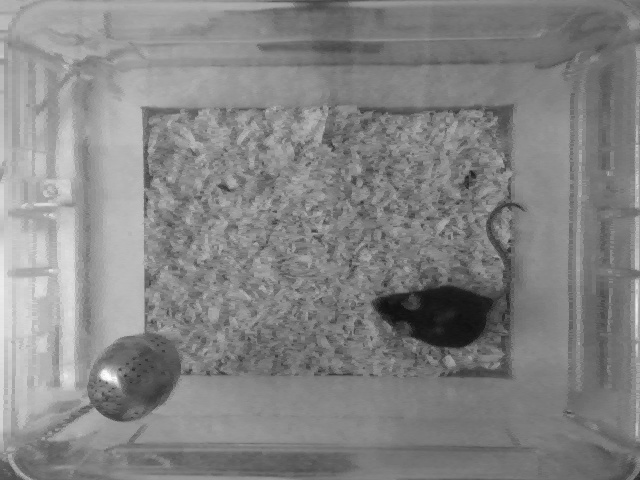mice: (365, 199, 534, 345)
